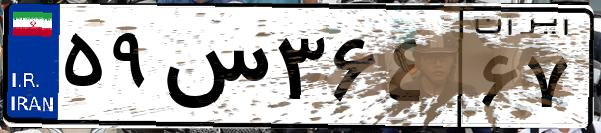3: (270, 28, 330, 110)
4: (385, 28, 445, 110)
5: (57, 26, 110, 100)
6: (330, 28, 385, 110), (475, 38, 525, 113)
7: (525, 38, 570, 115)
9: (110, 28, 158, 98)
س: (158, 20, 270, 120)
